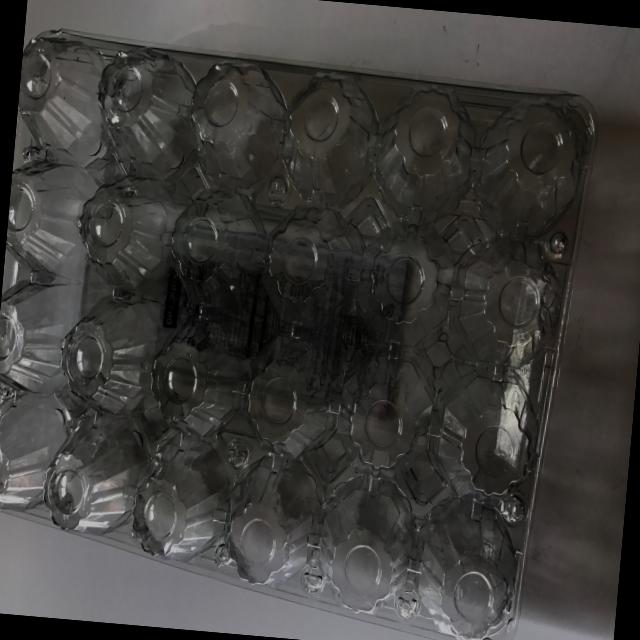Plastic: (0, 2, 624, 640)
